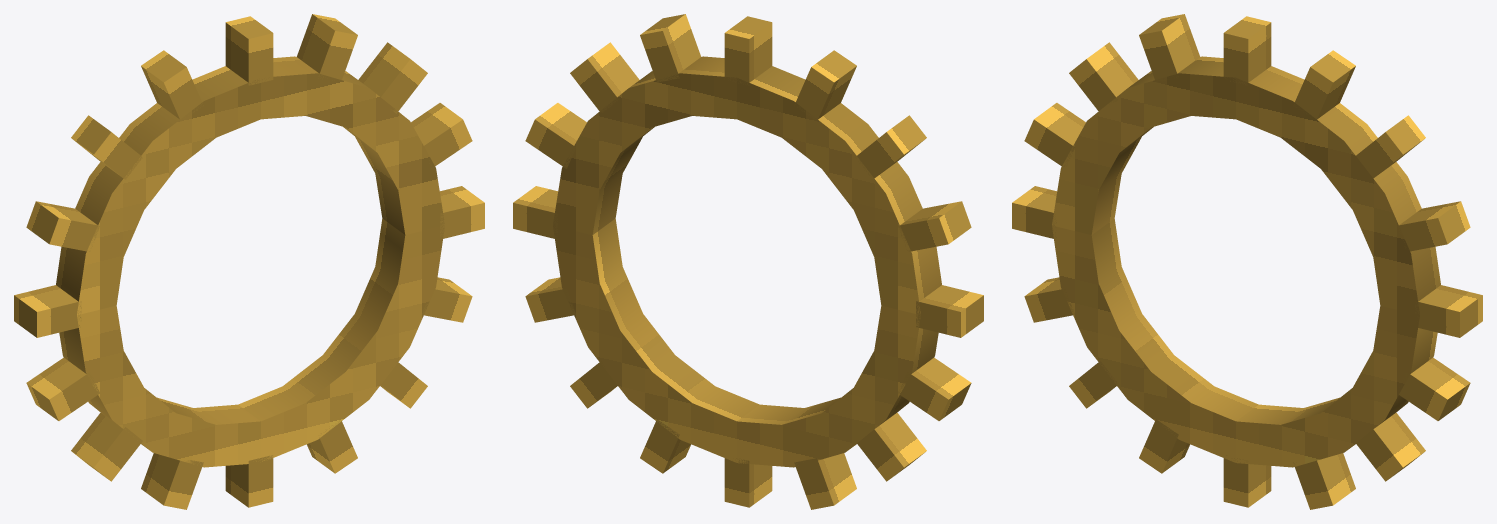
The model's file is mechanical_pump_gear.obj.
3 renders of one model, left to right at view 1: azimuth 30°, elevation 25°; view 2: azimuth 150°, elevation 25°; view 3: azimuth 330°, elevation 25°, orthographic.
Bounding box in the file's own units: 0.9 × 0.9 × 0.08.
